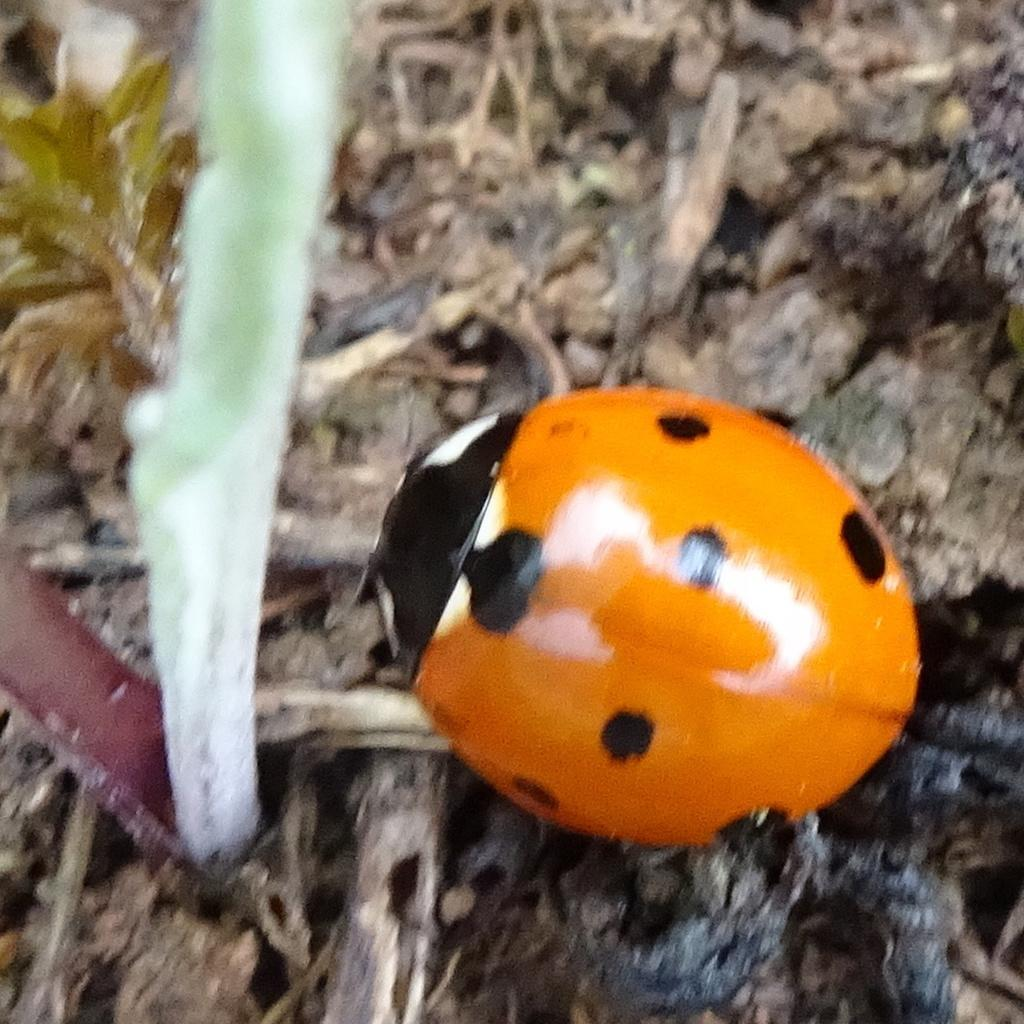ladybug: (366, 381, 926, 851)
